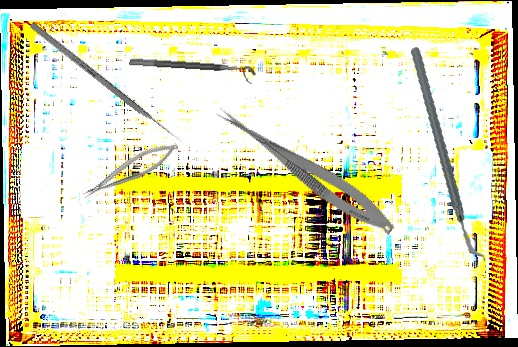Chopper: (381, 46, 514, 262)
Fixation Ring: (128, 57, 257, 85)
Micro Scissor: (208, 101, 402, 241)
Needle Holder: (77, 136, 183, 204)
Pusher: (29, 21, 184, 146)
